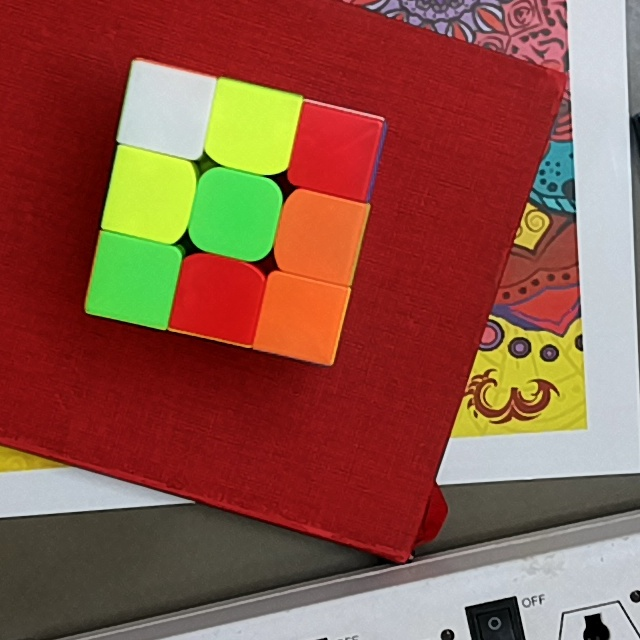tile: (118, 160, 183, 229), (134, 78, 201, 144), (202, 181, 267, 248), (184, 269, 253, 331), (288, 201, 355, 264), (270, 284, 335, 348), (101, 249, 168, 311), (221, 97, 284, 160), (305, 118, 366, 181)
